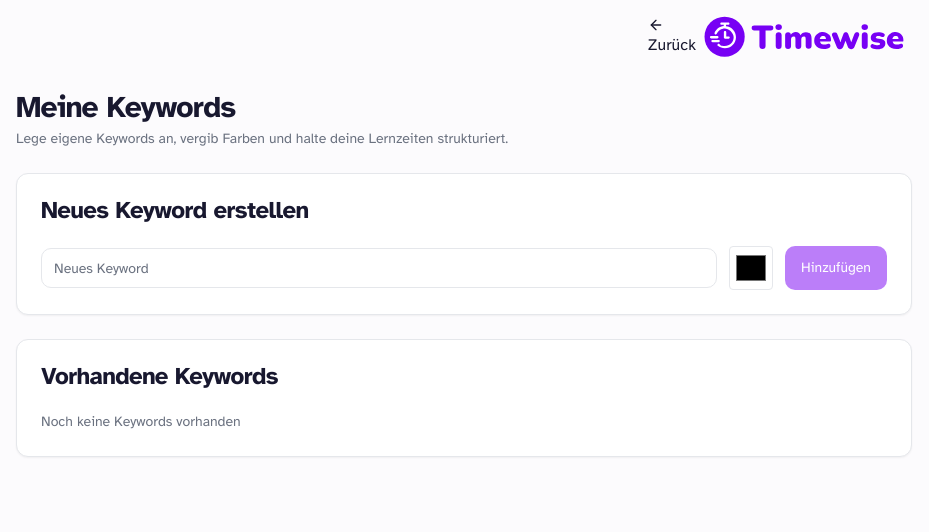
Scenario: KeywordsPage › creates a new keyword and refreshes the list
Expected: the text "Noch keine Keywords vorhanden" is shown, [41,413,241,430]
Type "Physik" into the field with placeholder "Neues Keyword". click: (379, 268)
box: [41,248,717,288]
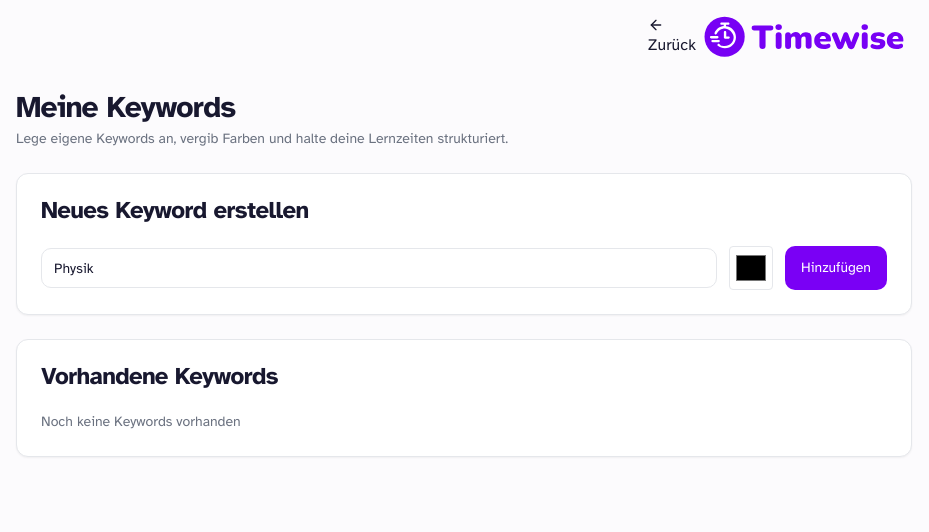
Click the button "Hinzufügen". click: (836, 268)
box: [785,246,887,290]
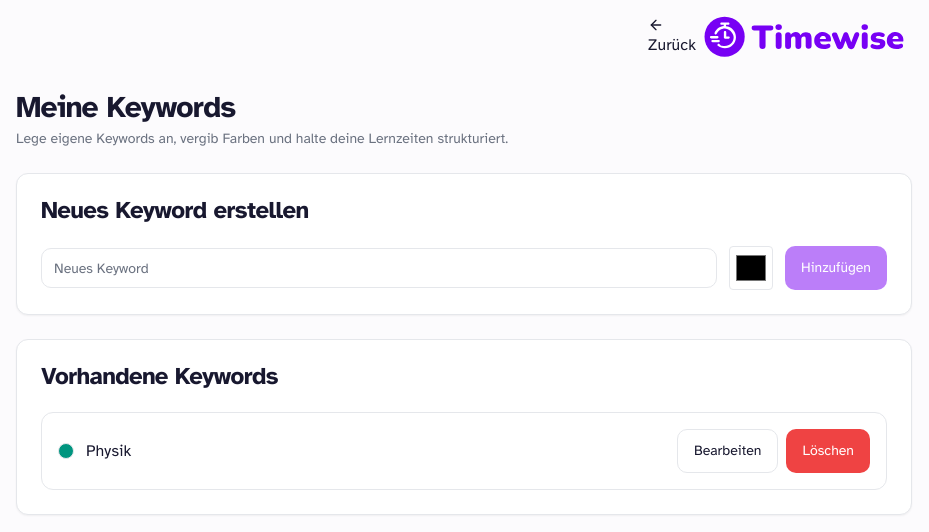
Expected: the text "Physik" is shown, [86,439,131,463]
Expected: the field with placeholder "Neues Keyword" is empty, [41,248,717,288]
